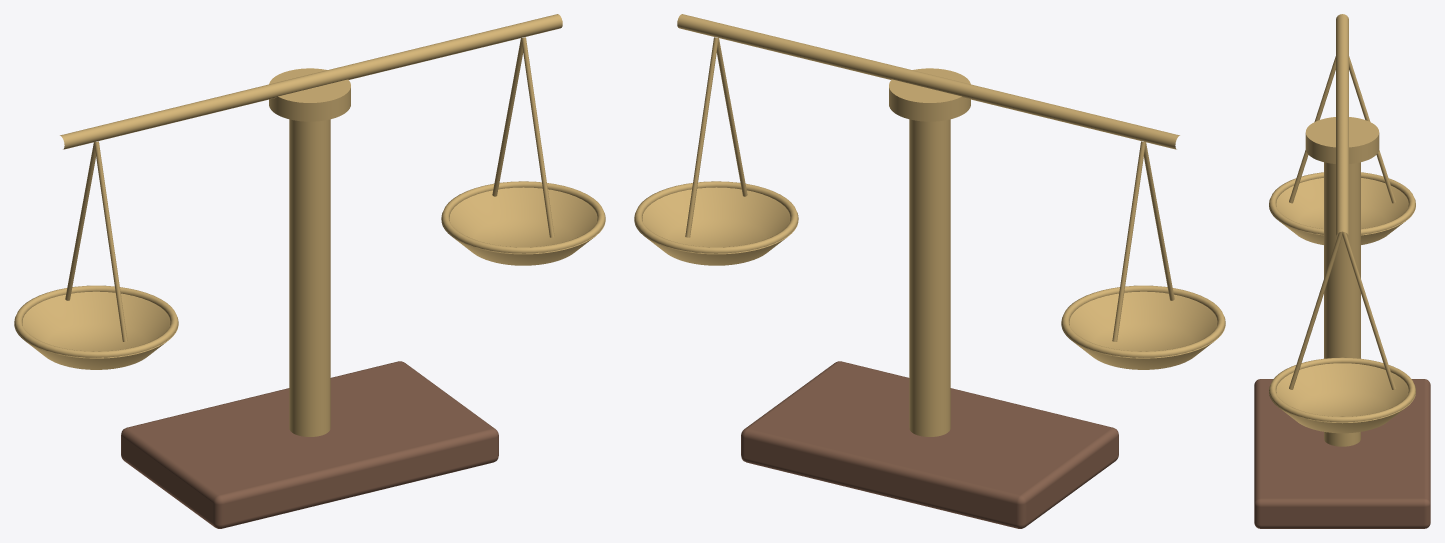
File: griffin-airmail-roost-and-posthouse-parcel-weighing-ba-0ac873d1__30517.glb
3 views of the same model, side by side, from view 1: azimuth 30°, elevation 25°; view 2: azimuth 150°, elevation 25°; view 3: azimuth 270°, elevation 25° (orthographic). The views are drawn at different scales.
Visible parts, largest first — view 1: parcel-weighing-balance; view 2: parcel-weighing-balance; view 3: parcel-weighing-balance.
Part boxes in pixels (<box>): parcel-weighing-balance: <box>14,14,605,528</box>; parcel-weighing-balance: <box>634,14,1225,528</box>; parcel-weighing-balance: <box>1254,14,1430,528</box>.
Size of the model in its own units: 0.8 by 0.519 by 0.24.
